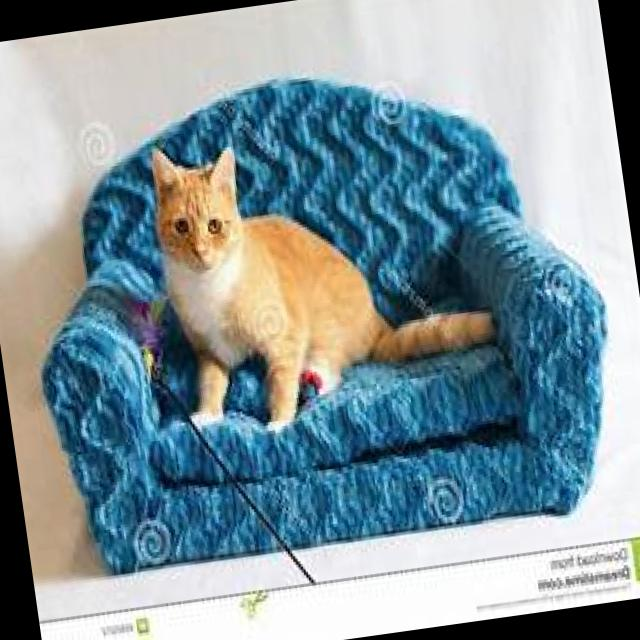animal: (142, 102, 508, 446)
